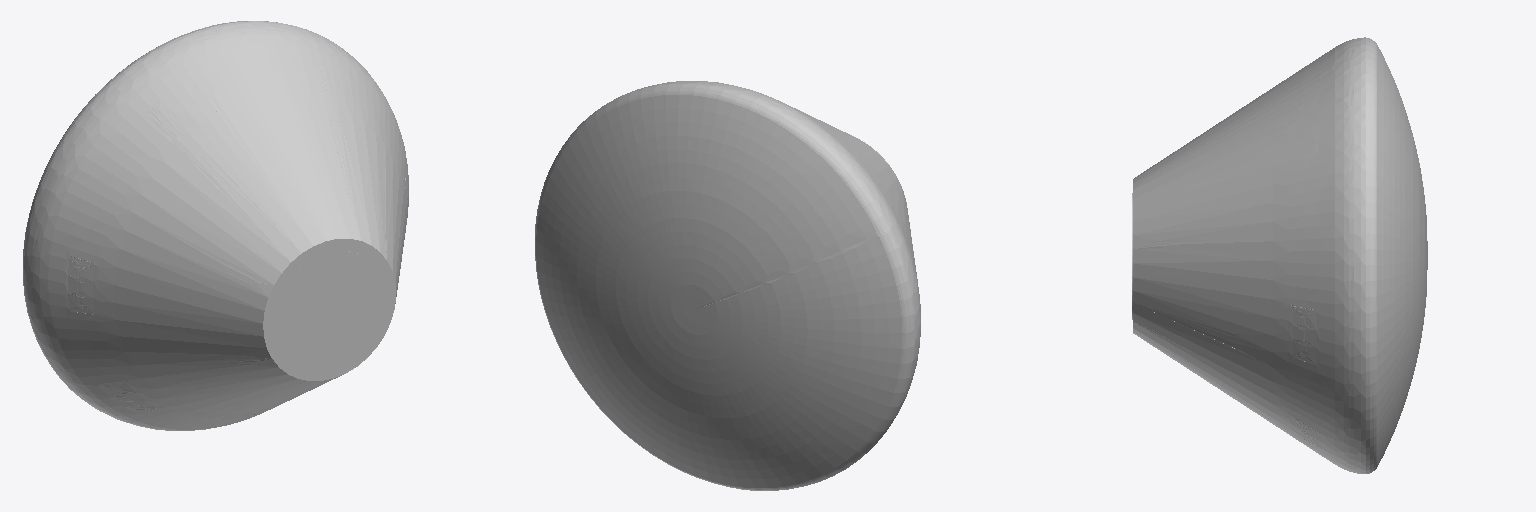
The model's file is crew.obj.
3 renders of one model, left to right at view 1: azimuth 30°, elevation 25°; view 2: azimuth 150°, elevation 25°; view 3: azimuth 270°, elevation 25°, orthographic.
Parts seen in each view (by area): view 1: Object.15, Object.14; view 2: Object.15; view 3: Object.15.
Boxes of the visible parts, x1=… form: Object.15: x1=23, y1=21, x2=408, y2=430; Object.14: x1=275, y1=251, x2=384, y2=368; Object.15: x1=535, y1=81, x2=920, y2=490; Object.15: x1=1133, y1=37, x2=1427, y2=473.
Size of the model in its own units: 129 by 129 by 86.99.